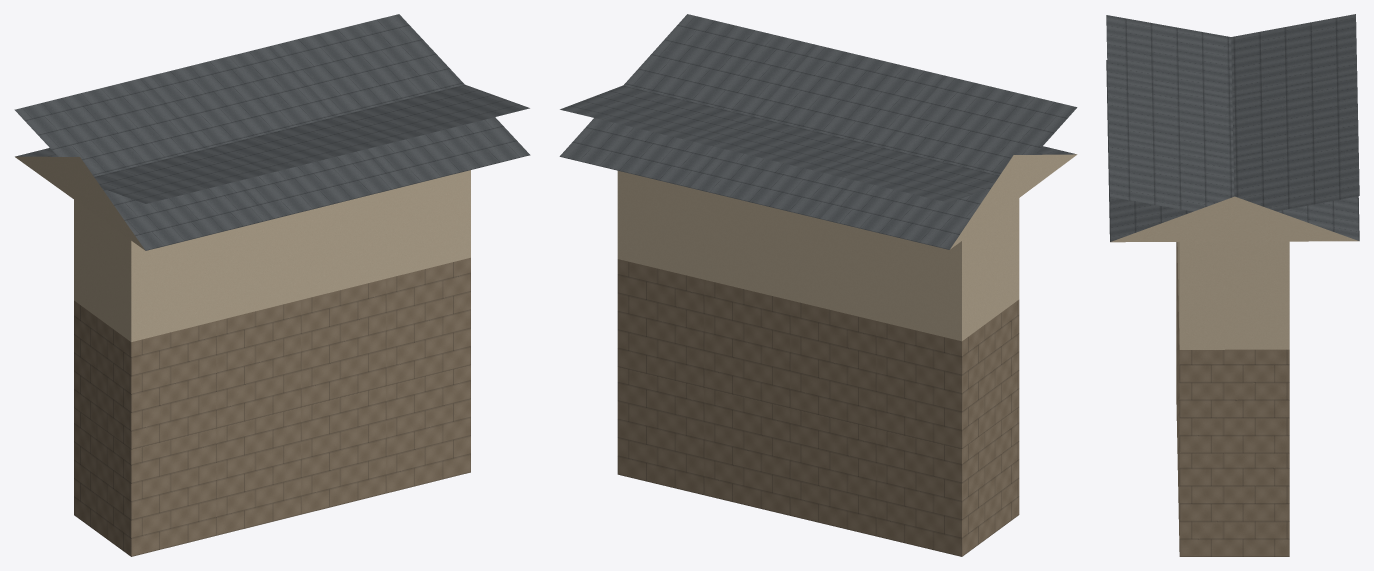
Rendered from bld_c23_45_386.gltf.
The picture shows the model from 3 angles, left to right: view 1: azimuth 30°, elevation 25°; view 2: azimuth 150°, elevation 25°; view 3: azimuth 270°, elevation 25°; orthographic projection. The views are drawn at different scales.
Visible parts, largest first — view 1: bld_c23_45_386; view 2: bld_c23_45_386; view 3: bld_c23_45_386.
Part boxes in pixels (<box>): bld_c23_45_386: <box>14,14,530,556</box>; bld_c23_45_386: <box>559,14,1077,556</box>; bld_c23_45_386: <box>1106,14,1359,556</box>.
Size of the model in its own units: 8.67 by 8.2 by 5.07.
4 materials, 4 textured.
